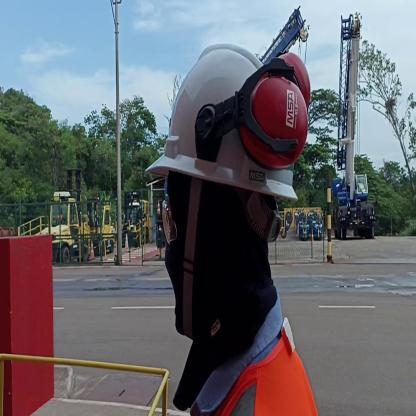Balaclava: (163, 175, 282, 354)
Capacete: (156, 45, 302, 195)
